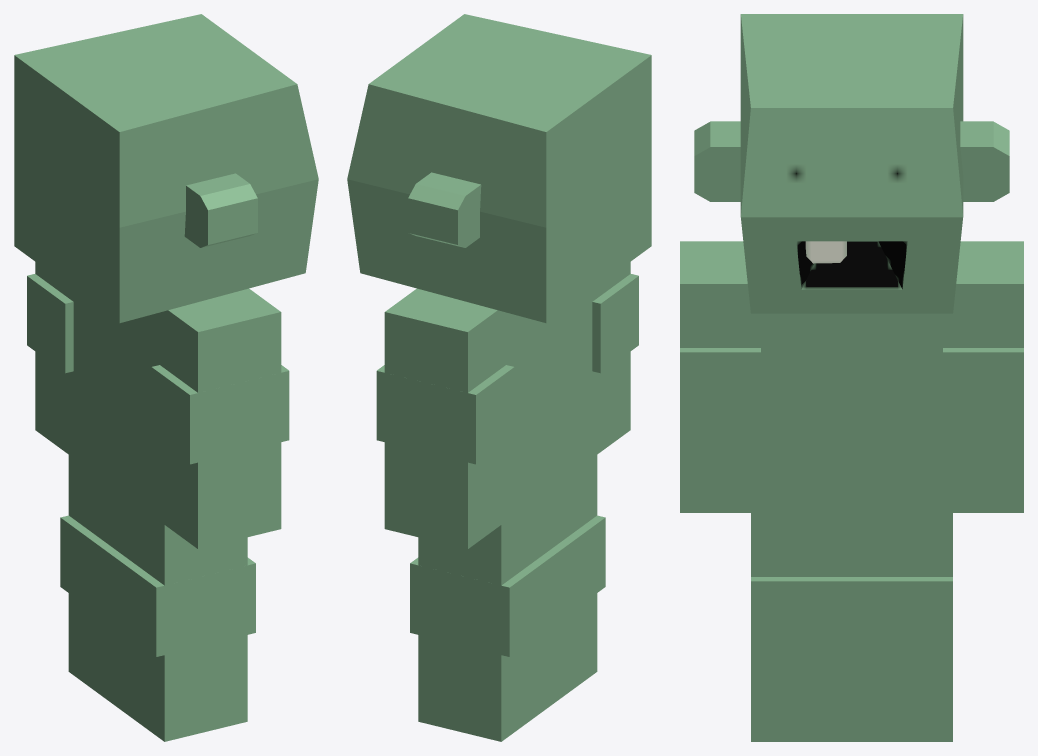
The model's file is ZOMBIE.fbx.
The picture shows the model from 3 angles, left to right: view 1: azimuth 30°, elevation 25°; view 2: azimuth 150°, elevation 25°; view 3: azimuth 270°, elevation 25°; orthographic projection. The views are drawn at different scales.
Parts seen in each view (by area): view 1: Head, Torso, LowerLeg_1, LEGarmor_1, LowerLeg_3, LEGarmor_3, Upperleg_3, Upperleg_1, ear_1, LowerLeg, LEGarmor, LEGarmor_2 (+2 smaller); view 2: Head, Torso, LowerLeg, LEGarmor, LowerLeg_2, LEGarmor_2, Upperleg_2, Upperleg, ear, LowerLeg_1, LEGarmor_1, LEGarmor_3 (+2 smaller); view 3: Head, Torso, LowerLeg, LowerLeg_1, LEGarmor, LEGarmor_1, Upperleg_2, Upperleg_3, LowerLeg_2, LowerLeg_3, Upperleg, Upperleg_1 (+5 smaller).
Boxes of the visible parts, bbox=[...] form: Head: bbox=[14, 14, 318, 323]; Torso: bbox=[73, 290, 159, 520]; LowerLeg_1: bbox=[116, 628, 247, 741]; LEGarmor_1: bbox=[108, 550, 255, 656]; LowerLeg_3: bbox=[159, 442, 281, 549]; LEGarmor_3: bbox=[151, 365, 289, 464]; Upperleg_3: bbox=[159, 288, 281, 392]; Upperleg_1: bbox=[116, 490, 247, 585]; ear_1: bbox=[184, 173, 257, 247]; LowerLeg: bbox=[68, 593, 116, 706]; LEGarmor: bbox=[60, 515, 116, 621]; LEGarmor_2: bbox=[27, 274, 73, 373]; Head: bbox=[347, 14, 651, 323]; Torso: bbox=[506, 290, 592, 520]; LowerLeg: bbox=[418, 628, 549, 741]; LEGarmor: bbox=[410, 550, 557, 656]; LowerLeg_2: bbox=[384, 442, 506, 549]; LEGarmor_2: bbox=[376, 365, 514, 464]; Upperleg_2: bbox=[384, 288, 506, 392]; Upperleg: bbox=[418, 490, 549, 585]; ear: bbox=[408, 172, 481, 247]; LowerLeg_1: bbox=[549, 593, 597, 706]; LEGarmor_1: bbox=[549, 515, 605, 621]; LEGarmor_3: bbox=[592, 274, 638, 373]; Head: bbox=[740, 14, 963, 313]; Torso: bbox=[761, 313, 942, 512]; LowerLeg: bbox=[852, 654, 952, 741]; LowerLeg_1: bbox=[751, 654, 851, 741]; LEGarmor: bbox=[852, 577, 952, 654]; LEGarmor_1: bbox=[751, 577, 851, 654]; Upperleg_2: bbox=[943, 241, 1023, 347]; Upperleg_3: bbox=[680, 241, 760, 347]; LowerLeg_2: bbox=[943, 425, 1023, 512]; LowerLeg_3: bbox=[680, 425, 760, 512]; Upperleg: bbox=[852, 513, 952, 576]; Upperleg_1: bbox=[751, 513, 851, 576].
Bounding box in the file's own units: 150 × 450 × 213.
1 material, 1 textured.
